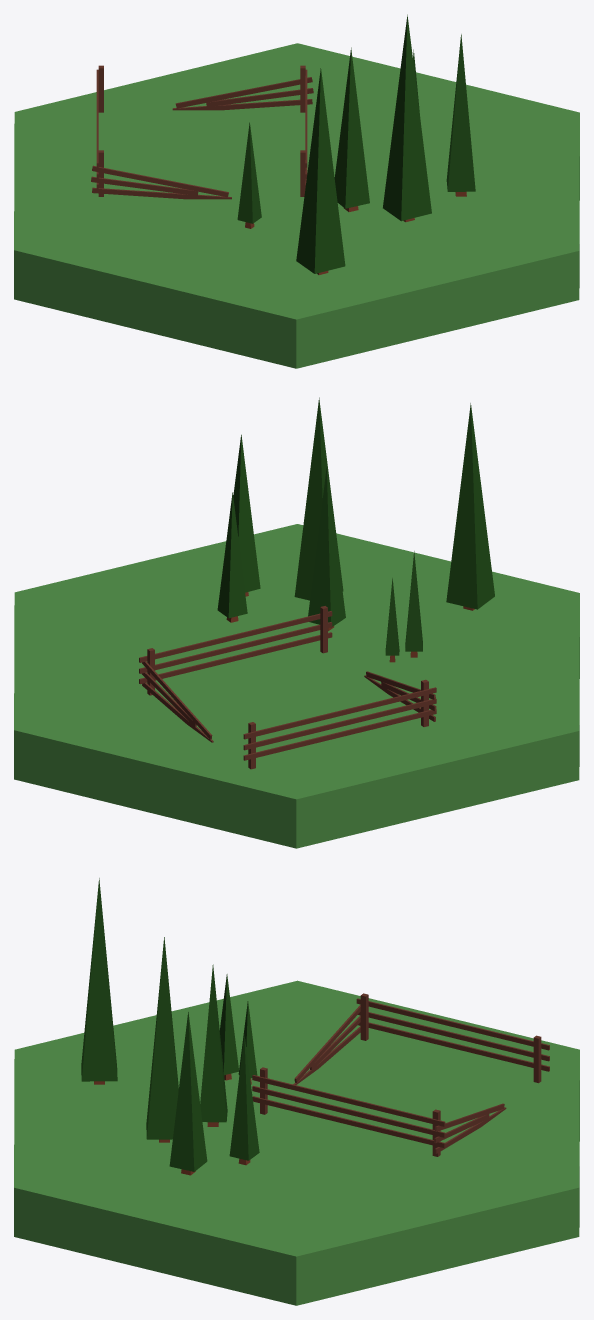
Rendered from Planet_FenceBroken_Hexagon.fbx.
3 views of the same model, one above another, from view 1: azimuth 30°, elevation 25°; view 2: azimuth 150°, elevation 25°; view 3: azimuth 270°, elevation 25° (orthographic).
Parts seen in each view (by area): view 1: polySurface5, pCube200, pCube1, pCube5, pCube4, pCube11, pCube196, pCube182, pCube198, pCube180, pCube197, pCube181; view 2: polySurface5, pCube200, pCube1, pCube5, pCube4, pCube8, pCube185, pCube183, pCube184, pCube186, pCube188, pCube187 (+2 smaller); view 3: polySurface5, pCube200, pCube1, pCube4, pCube5, pCube8, pCube186, pCube188, pCube187, pCube11, pCube185, pCube184 (+2 smaller).
Part boxes in pixels (x1,y1,x2,y2): polySurface5: (14,43,579,368); pCube200: (296,68,345,273); pCube1: (383,14,431,221); pCube5: (334,47,369,208); pCube4: (446,34,475,191); pCube11: (237,122,261,223); pCube196: (92,165,228,197); pCube182: (175,77,312,108); pCube198: (92,187,231,199); pCube180: (172,99,312,110); pCube197: (91,176,198,195); pCube181: (206,88,313,107); polySurface5: (14,524,579,848); pCube200: (446,403,494,609); pCube1: (294,397,343,600); pCube5: (308,466,345,627); pCube4: (233,434,260,592); pCube8: (217,492,247,618); pCube185: (243,687,436,739); pCube183: (243,699,436,750); pCube184: (243,709,436,760); pCube186: (139,611,332,662); pCube188: (139,622,332,673); pCube187: (139,632,332,684); polySurface5: (14,980,579,1305); pCube200: (81,878,117,1081); pCube1: (146,937,178,1139); pCube4: (169,1012,207,1171); pCube5: (200,964,227,1122); pCube8: (229,1034,259,1160); pCube186: (252,1075,445,1126); pCube188: (252,1086,445,1137); pCube187: (252,1096,445,1148); pCube11: (219,974,238,1075); pCube185: (356,998,549,1050); pCube184: (358,1022,549,1071).
Bounding box in the file's own units: 6.28 × 2.7 × 5.44.
